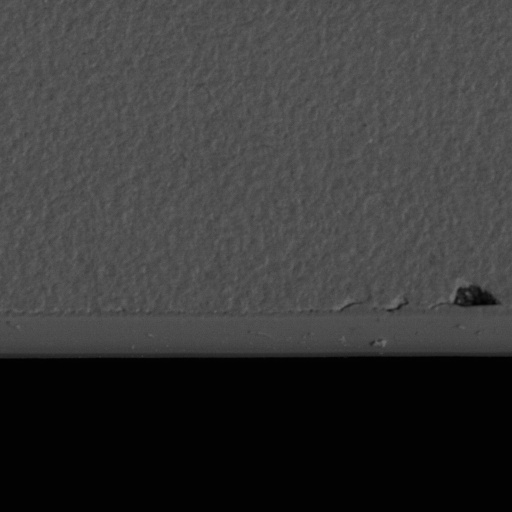bengque: (451, 282, 502, 312)
